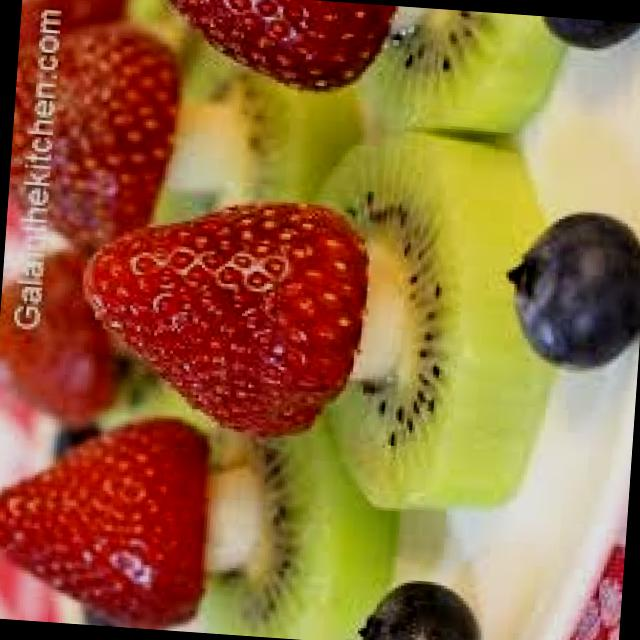strawberry: (75, 186, 358, 430), (0, 396, 208, 625)
